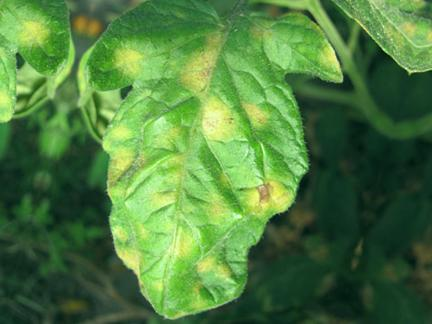Tomato mold leaf: (20, 0, 365, 324)
